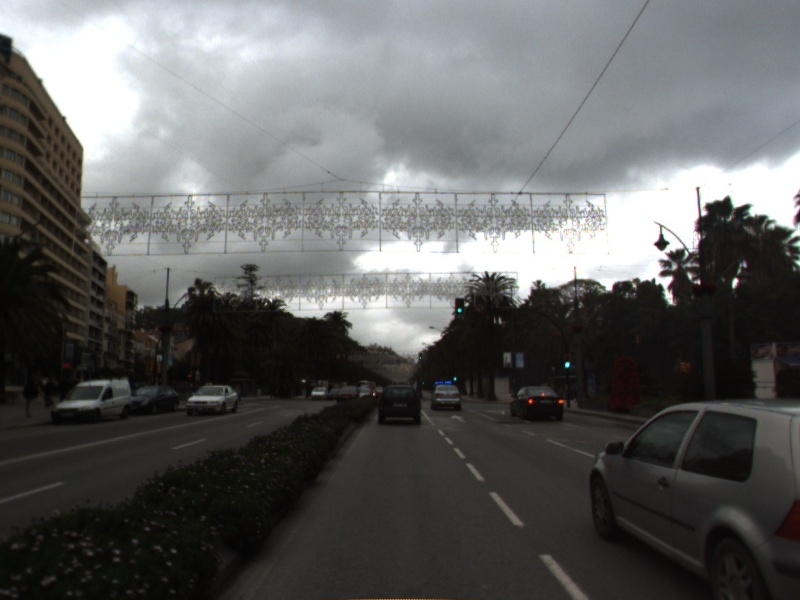STRAIGHT: (448, 412, 469, 425)
